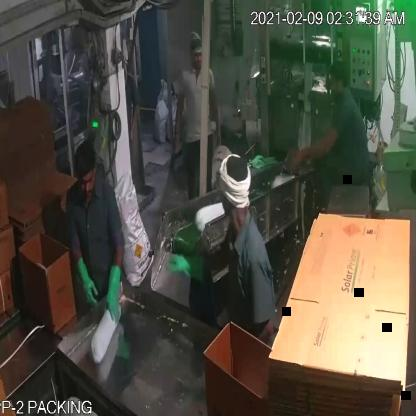glove: (96, 250, 130, 335), (65, 245, 102, 315), (162, 245, 217, 292)
no_glove: (286, 111, 344, 177), (165, 81, 189, 164)
